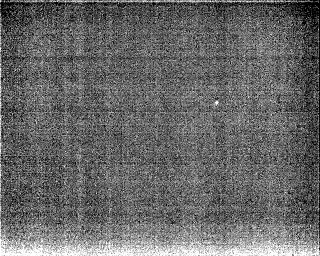BIRD: (211, 98, 221, 109)
